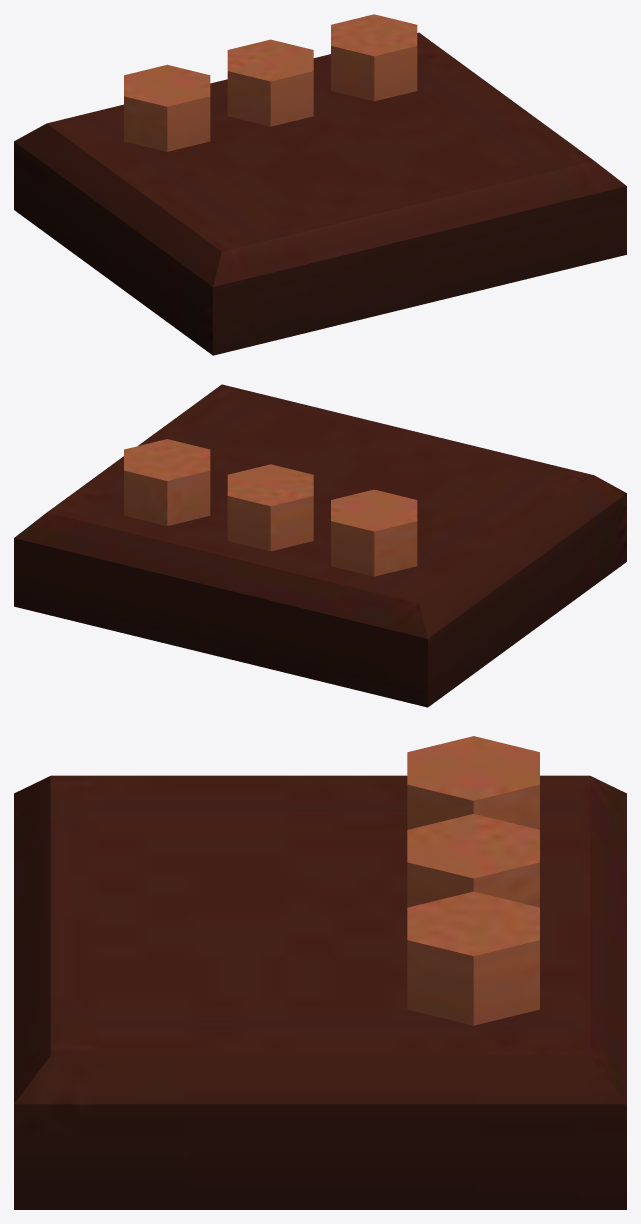
Rendered from productivity-module.glb.
3 renders of one model, top to bottom at view 1: azimuth 30°, elevation 25°; view 2: azimuth 150°, elevation 25°; view 3: azimuth 270°, elevation 25°, orthographic. The views are drawn at different scales.
Visible parts, largest first — view 1: productivity-module; view 2: productivity-module; view 3: productivity-module.
Boxes of the visible parts, x1=… form: productivity-module: x1=14, y1=14, x2=626, y2=355; productivity-module: x1=14, y1=384, x2=626, y2=707; productivity-module: x1=14, y1=736, x2=626, y2=1209.
Bounding box in the file's own units: 0.24 × 0.075 × 0.2.
Materials: 1 (1 with a texture image).
